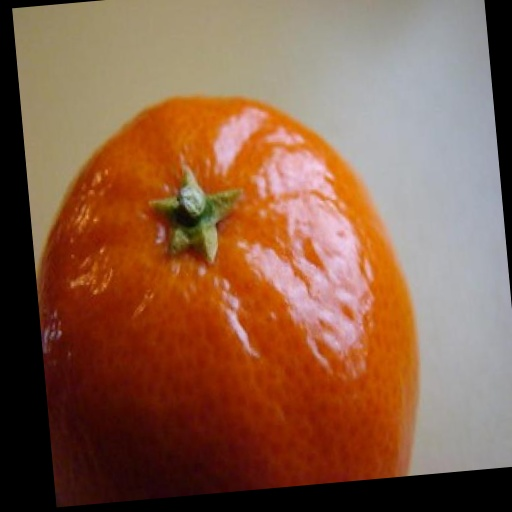fruit: (37, 98, 417, 506)
